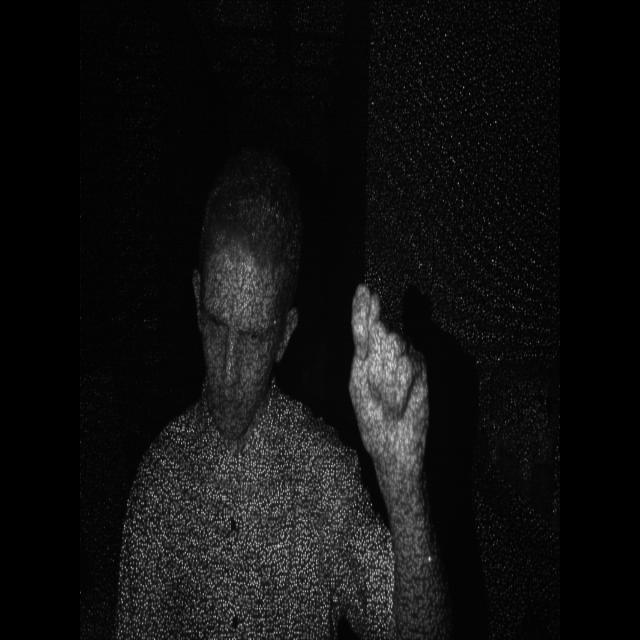T: (343, 279, 442, 540)
